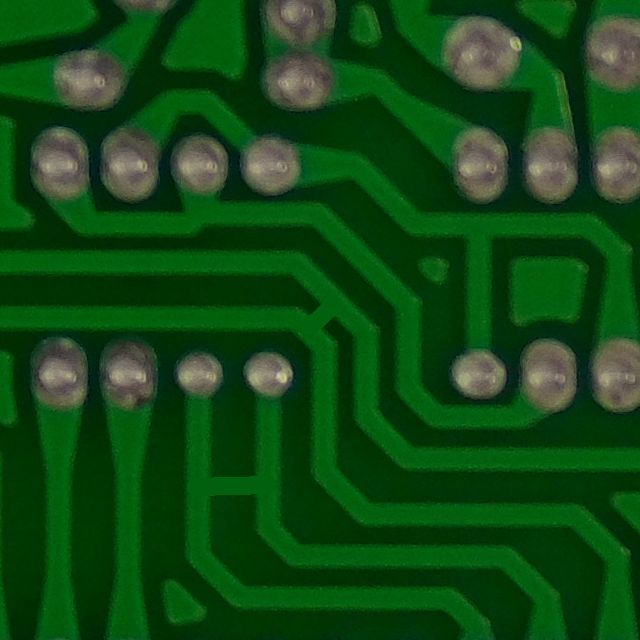short: (177, 449, 296, 538), (279, 283, 362, 357), (0, 237, 26, 335)
